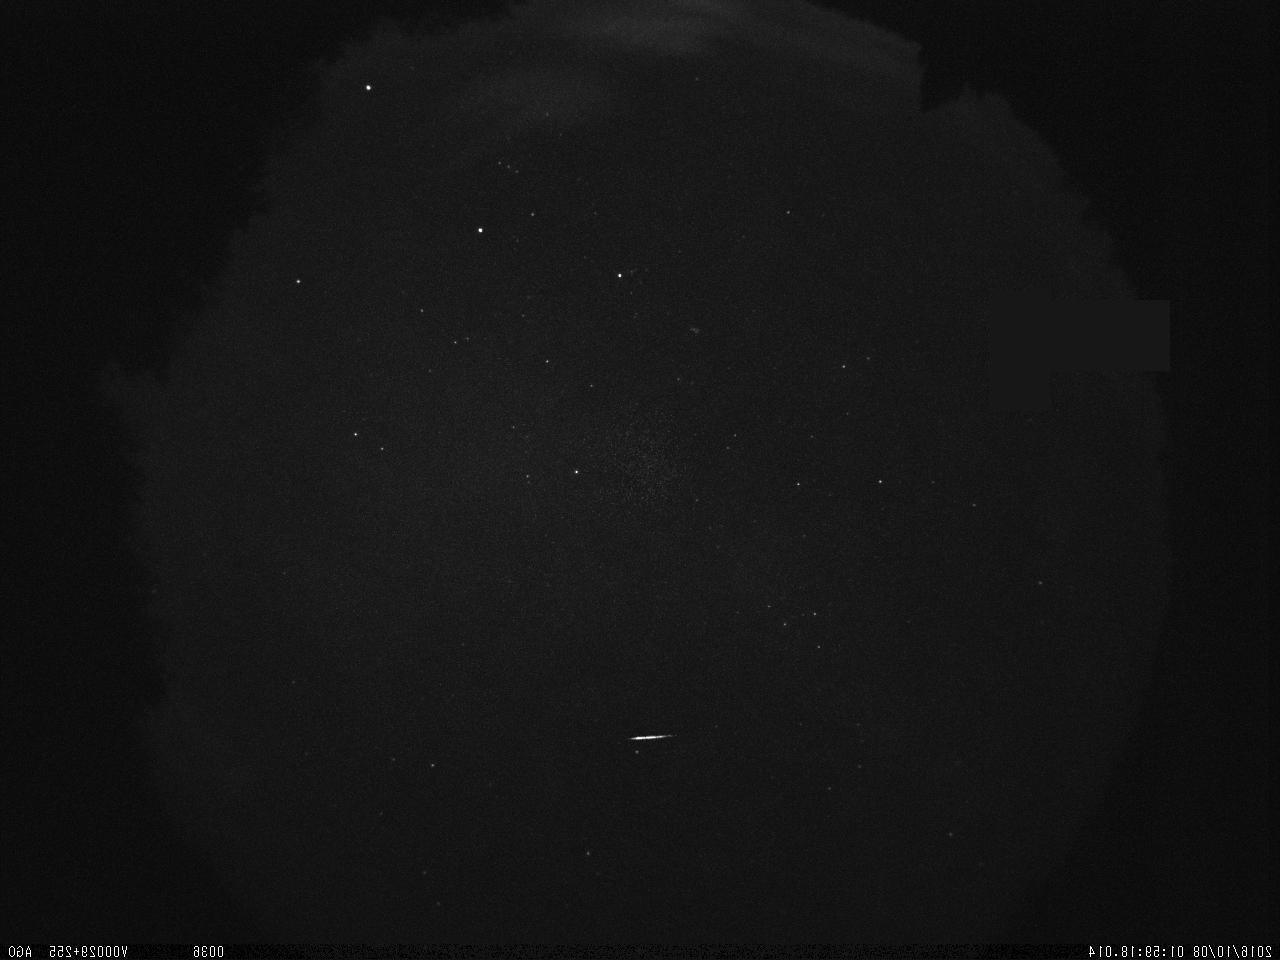meteor: (603, 716, 688, 755)
